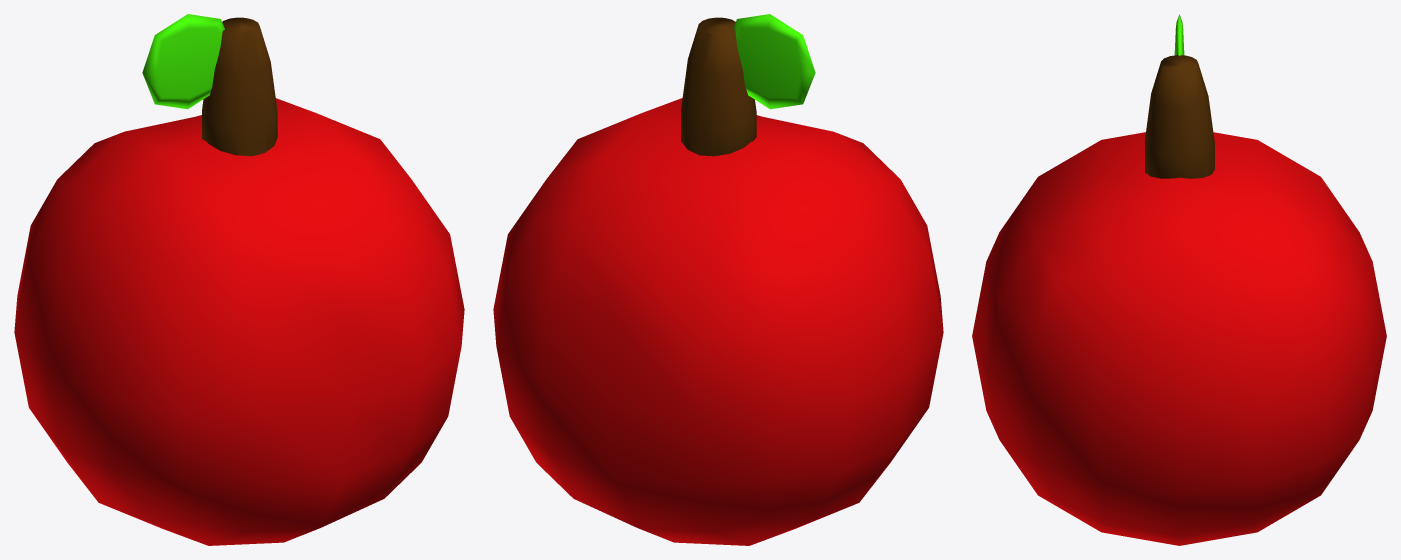
File: Apple Cosmetic.fbx
3 renders of one model, left to right at view 1: azimuth 30°, elevation 25°; view 2: azimuth 150°, elevation 25°; view 3: azimuth 270°, elevation 25°, orthographic. The views are drawn at different scales.
Parts seen in each view (by area): view 1: Cube.001; view 2: Cube.001; view 3: Cube.001.
Part boxes in pixels (box(x1,y1,x2,y2)): Cube.001: box(14, 14, 464, 545); Cube.001: box(493, 14, 943, 545); Cube.001: box(972, 14, 1386, 545).
Bounding box in the file's own units: 168 × 216 × 168.
